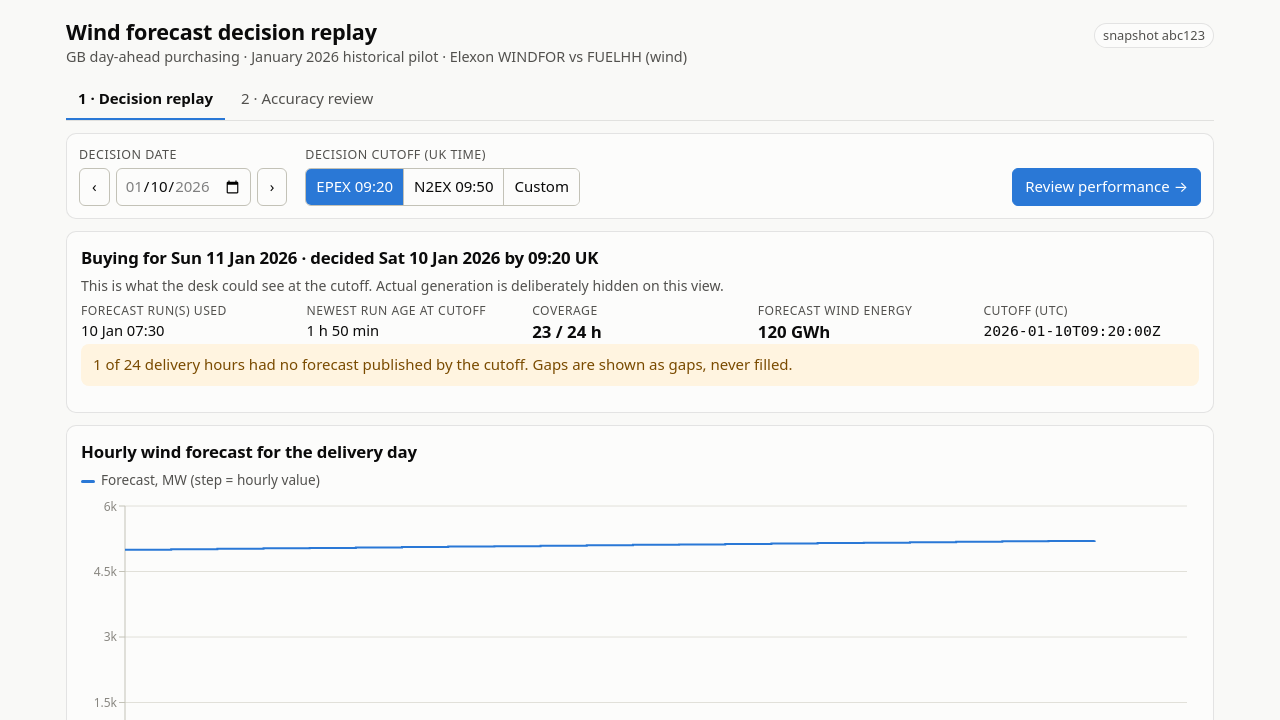
App › navigates to the accuracy review for the same day and renders metrics
Expected: the heading "Buying for" is shown, [81,246,171,269]
Step 1. Click the button "Review performance →" → {"x": 1107, "y": 187}, box [1012,168,1201,206]
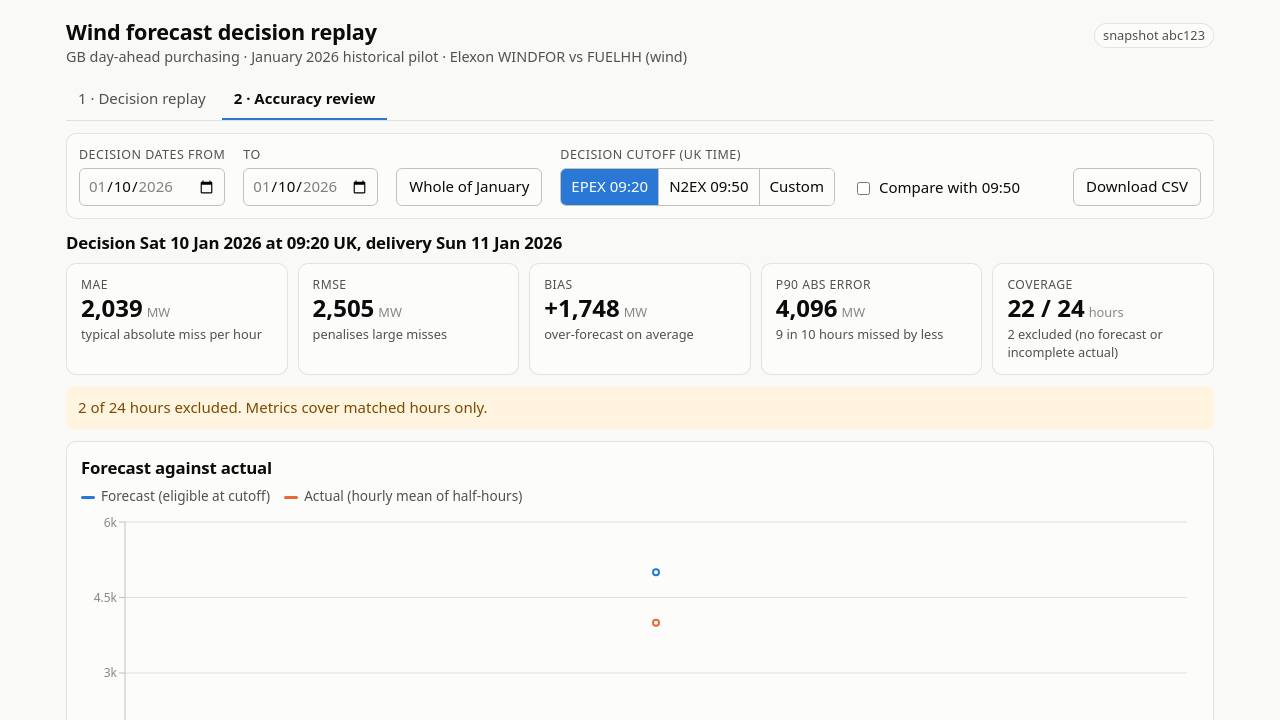
Expected: the text "2,039" is shown, [81,291,143,324]
Expected: the text "+1,748" is shown, [544,291,620,324]
